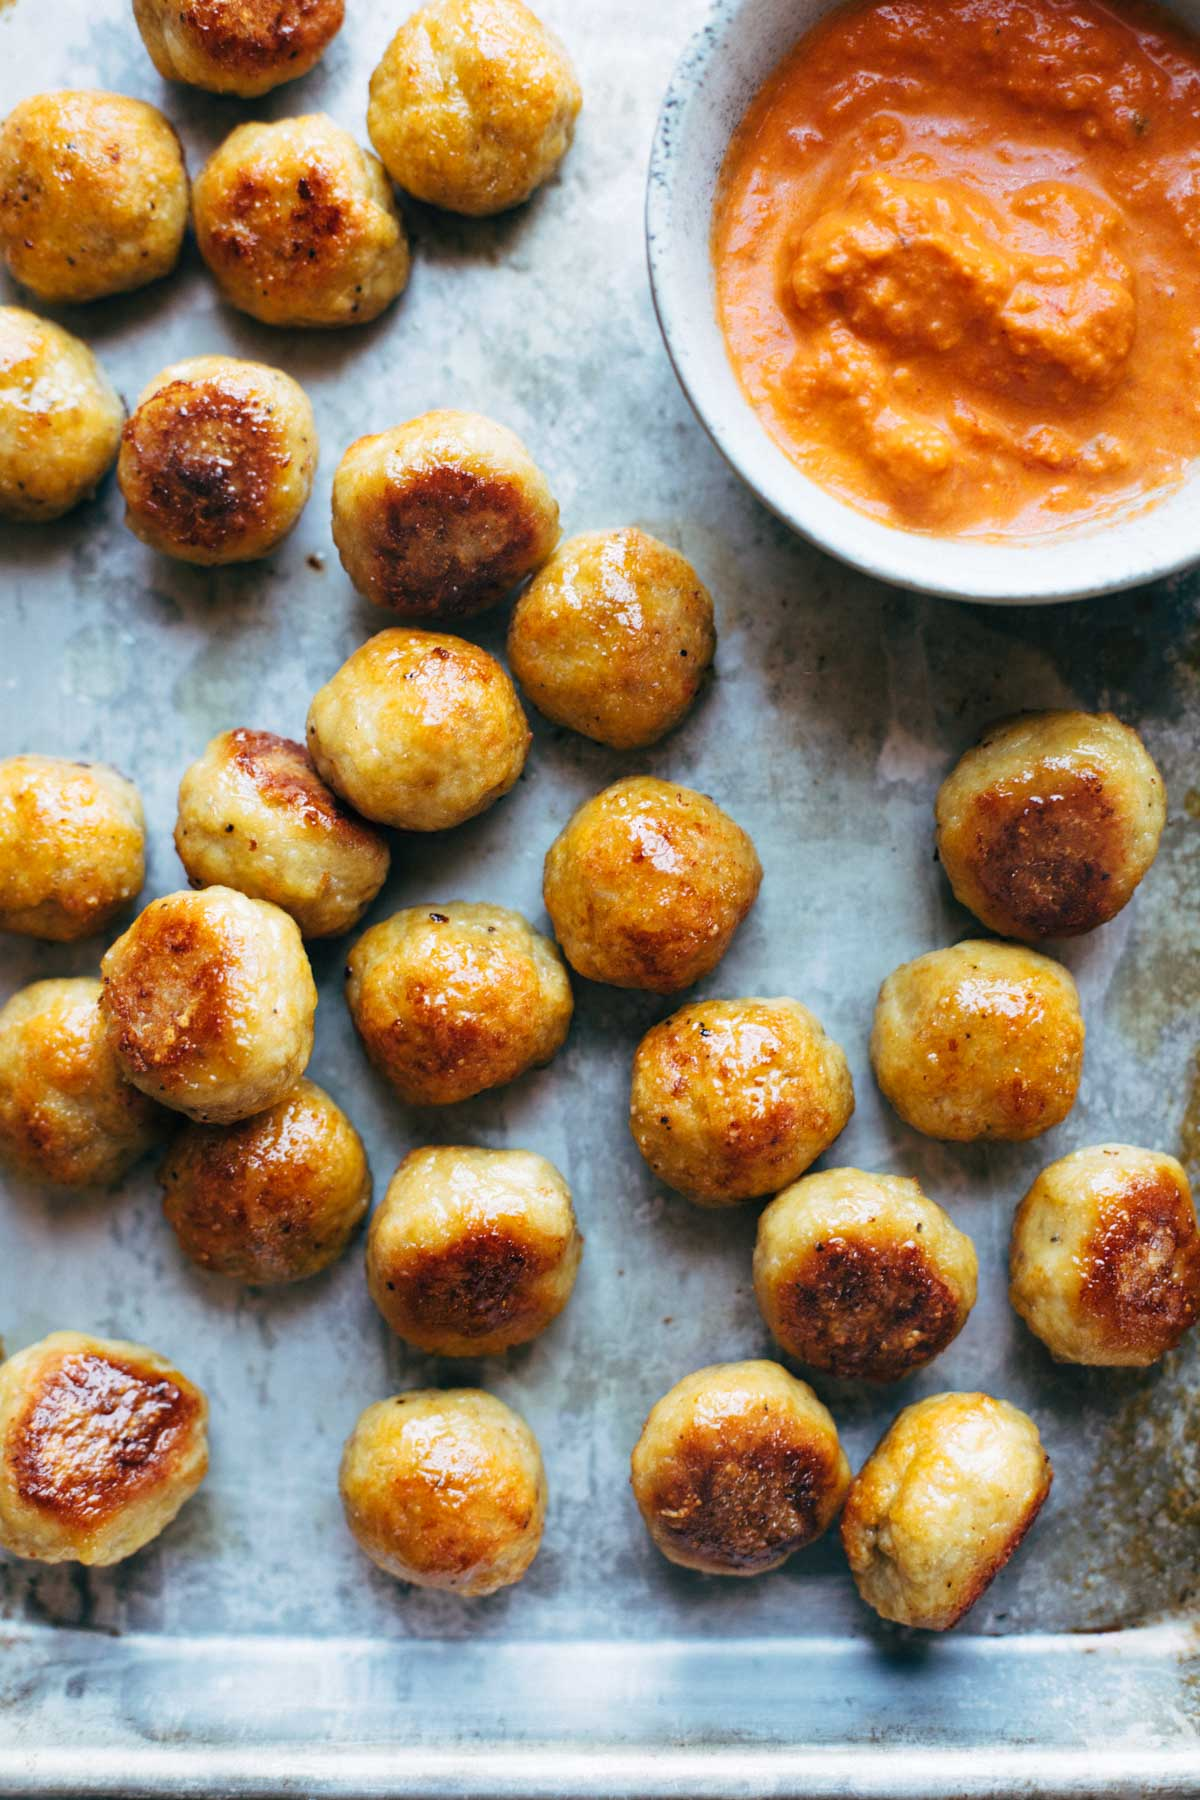meatballs: (1, 1326, 205, 1571), (100, 899, 311, 1113), (192, 125, 404, 333), (516, 538, 725, 738), (329, 411, 545, 601), (379, 5, 581, 208), (636, 1371, 838, 1570), (759, 1184, 972, 1369), (646, 1004, 850, 1196), (954, 729, 1160, 917), (889, 944, 1074, 1154), (850, 1408, 1039, 1611), (320, 625, 518, 816), (564, 796, 751, 996), (167, 734, 384, 905), (388, 1148, 561, 1353), (11, 92, 183, 295), (372, 907, 549, 1101), (166, 1104, 364, 1276), (133, 366, 309, 553), (363, 1409, 546, 1584), (1029, 1154, 1183, 1363), (5, 984, 151, 1188), (1, 742, 138, 937), (1, 321, 126, 506), (153, 1, 340, 98)
